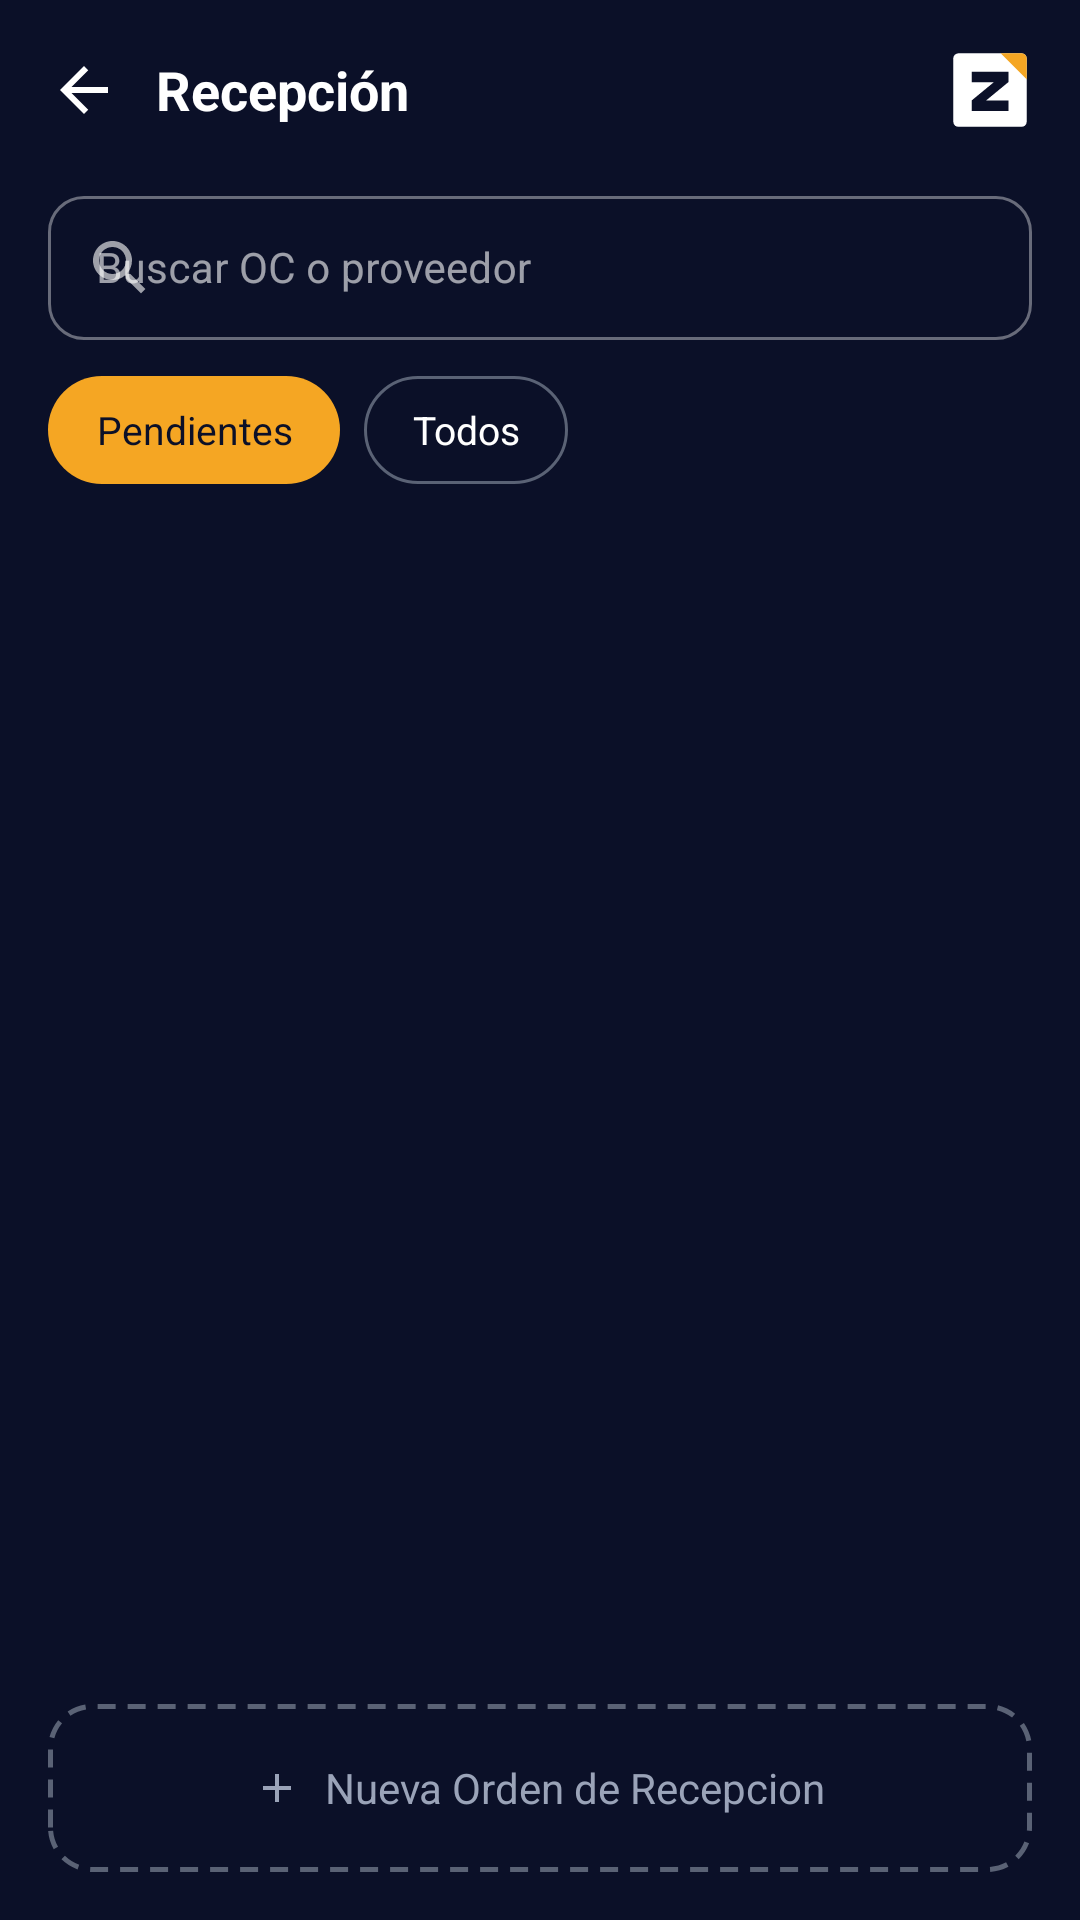

Icons on this 1080×1920 Android screen, each with its box as bbox(x1, y1, x2, y2):
plus: bbox(263, 1774, 291, 1802)
Volver: bbox(60, 66, 108, 114)
